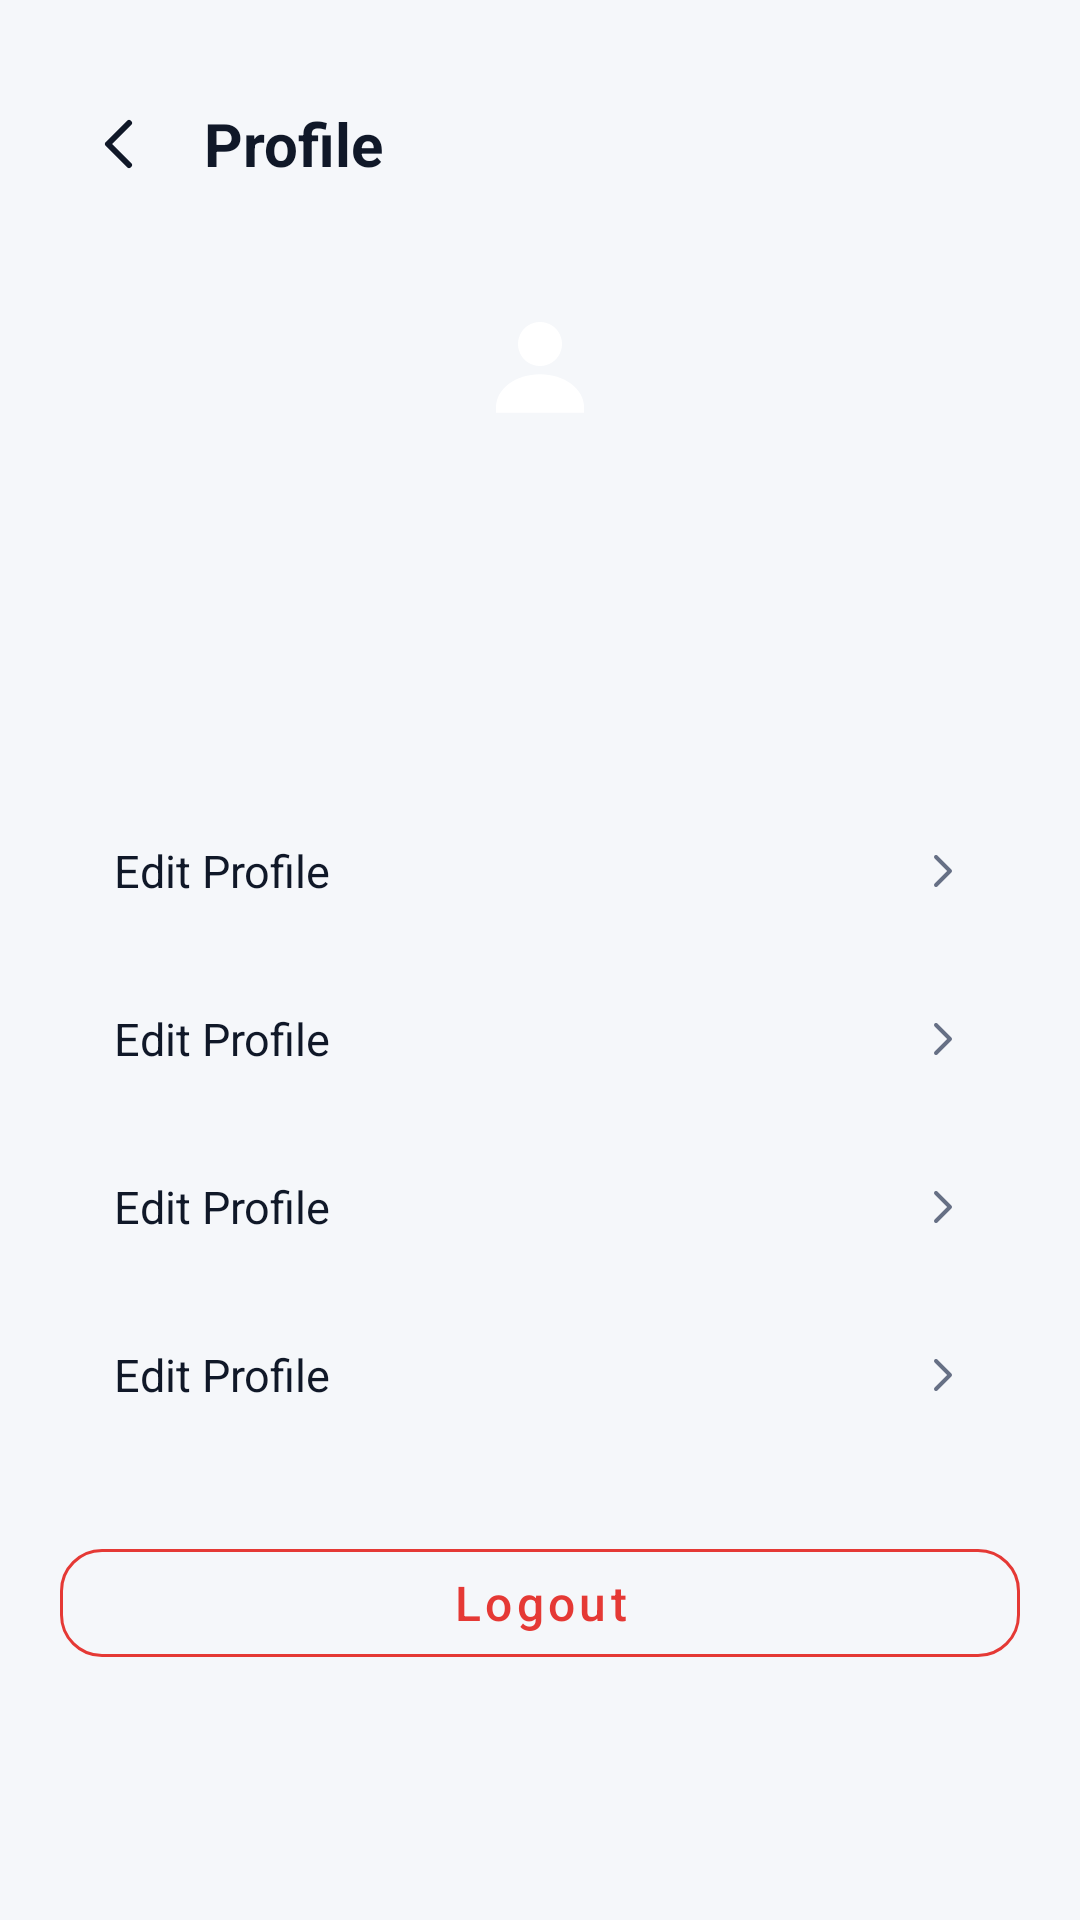

Locate icon controls on the screen. Image size 1080*1920, boxes as (x1, y1, x2, y2).
Back to Login: (105, 120, 132, 168)
